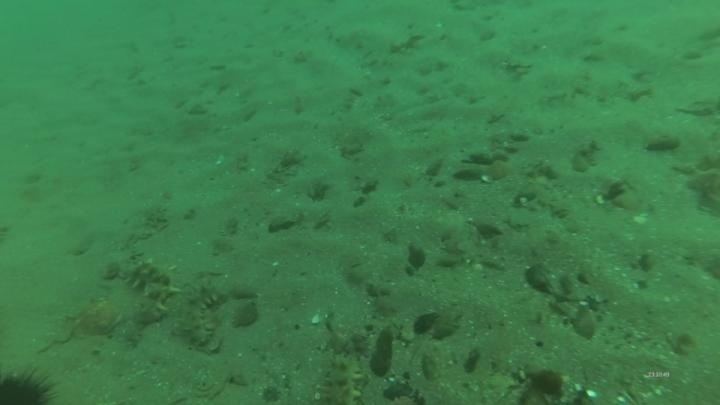echinus: (0, 364, 60, 404)
holothurian: (116, 252, 182, 326), (178, 277, 229, 352), (317, 350, 368, 405)
